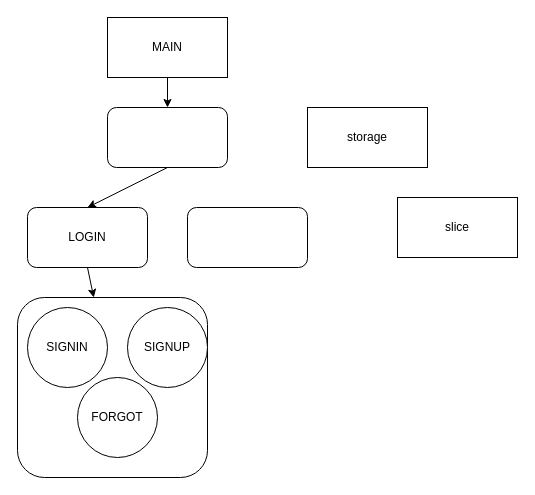
Some shapes in this 535 by 495 pixel diagram are drawn without their labels. The shapes that lost their labels are listed below. From the top down, each one's box as (x1, y1, x2, y2) in pixels, then its label:
(106, 106, 228, 168): APP
(186, 206, 308, 268): dashboard
